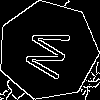W: (23, 25, 80, 83)
